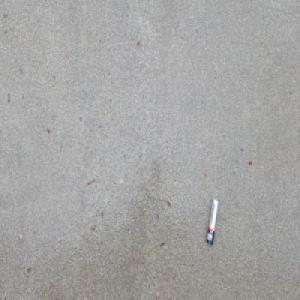Battery: (205, 197, 219, 247)
